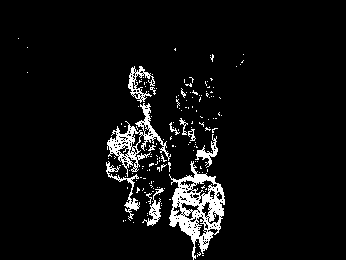person: (172, 155, 227, 260), (110, 118, 144, 213), (140, 131, 171, 228), (200, 72, 226, 161), (173, 77, 199, 152)
